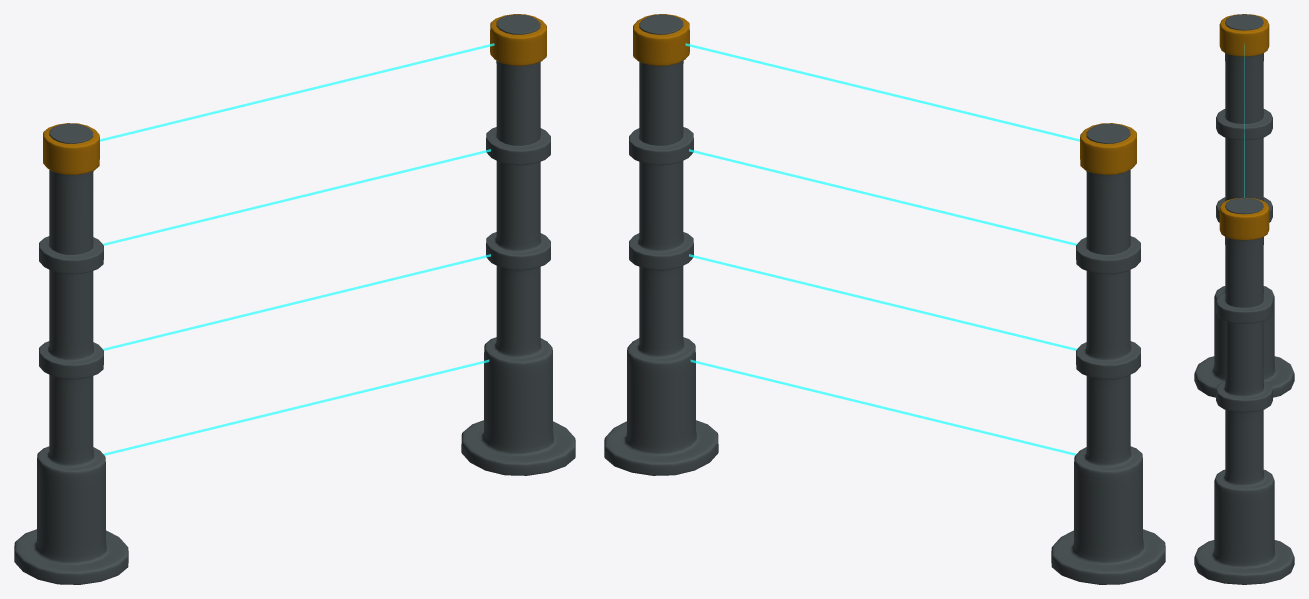
The model's file is electric_fence.glb.
3 renders of one model, left to right at view 1: azimuth 30°, elevation 25°; view 2: azimuth 150°, elevation 25°; view 3: azimuth 270°, elevation 25°, orthographic. The views are drawn at different scales.
Parts seen in each view (by area): view 1: Cube, Cube.001; view 2: Cube, Cube.001; view 3: Cube, Cube.001.
Part boxes in pixels (bbox=[...]): Cube: bbox=[14, 14, 575, 584]; Cube.001: bbox=[100, 43, 494, 455]; Cube: bbox=[604, 14, 1165, 584]; Cube.001: bbox=[685, 43, 1079, 455]; Cube: bbox=[1194, 14, 1294, 584]; Cube.001: bbox=[1244, 43, 1244, 197].
Size of the model in its own units: 2.44 by 1.83 by 0.4631.
